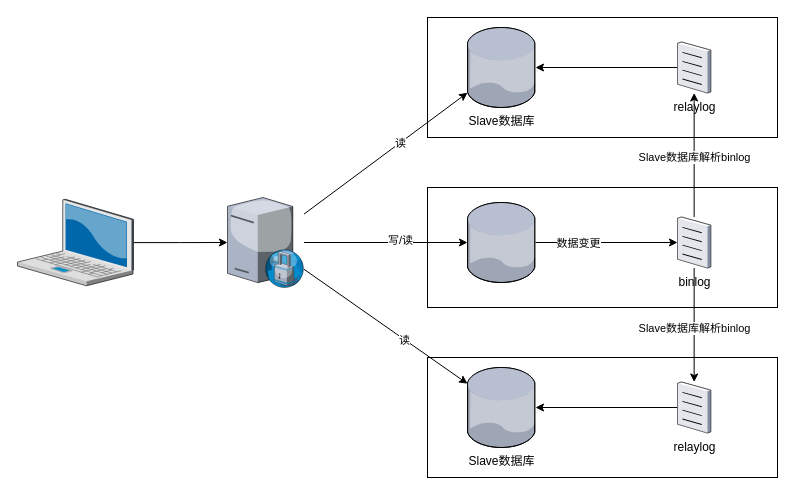
Some shapes in this 795 by 495 pixel diagram are drawn without their labels. Here are the shapes that lost their labels. From the top down, the box of each, then its label:
(227, 197, 304, 287): mysql proxy
(467, 202, 535, 282): Master数据库
